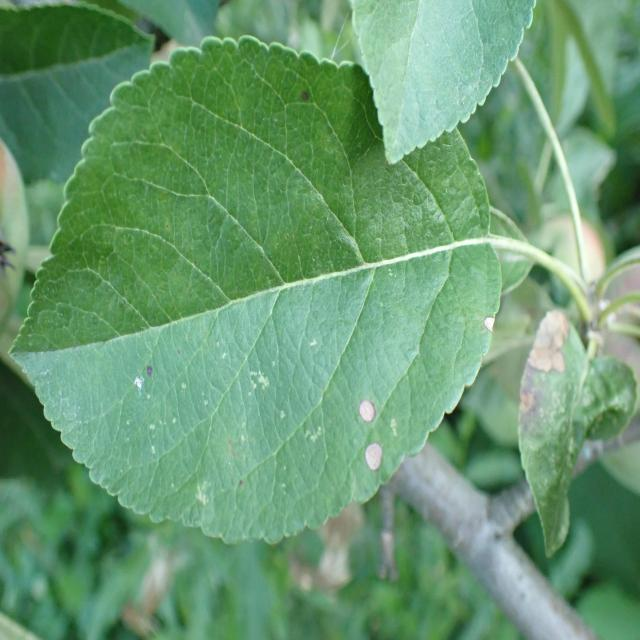Black Rot: (519, 285, 572, 467), (355, 388, 388, 448), (360, 436, 392, 486), (133, 348, 167, 392), (476, 308, 505, 348), (291, 79, 314, 113)
